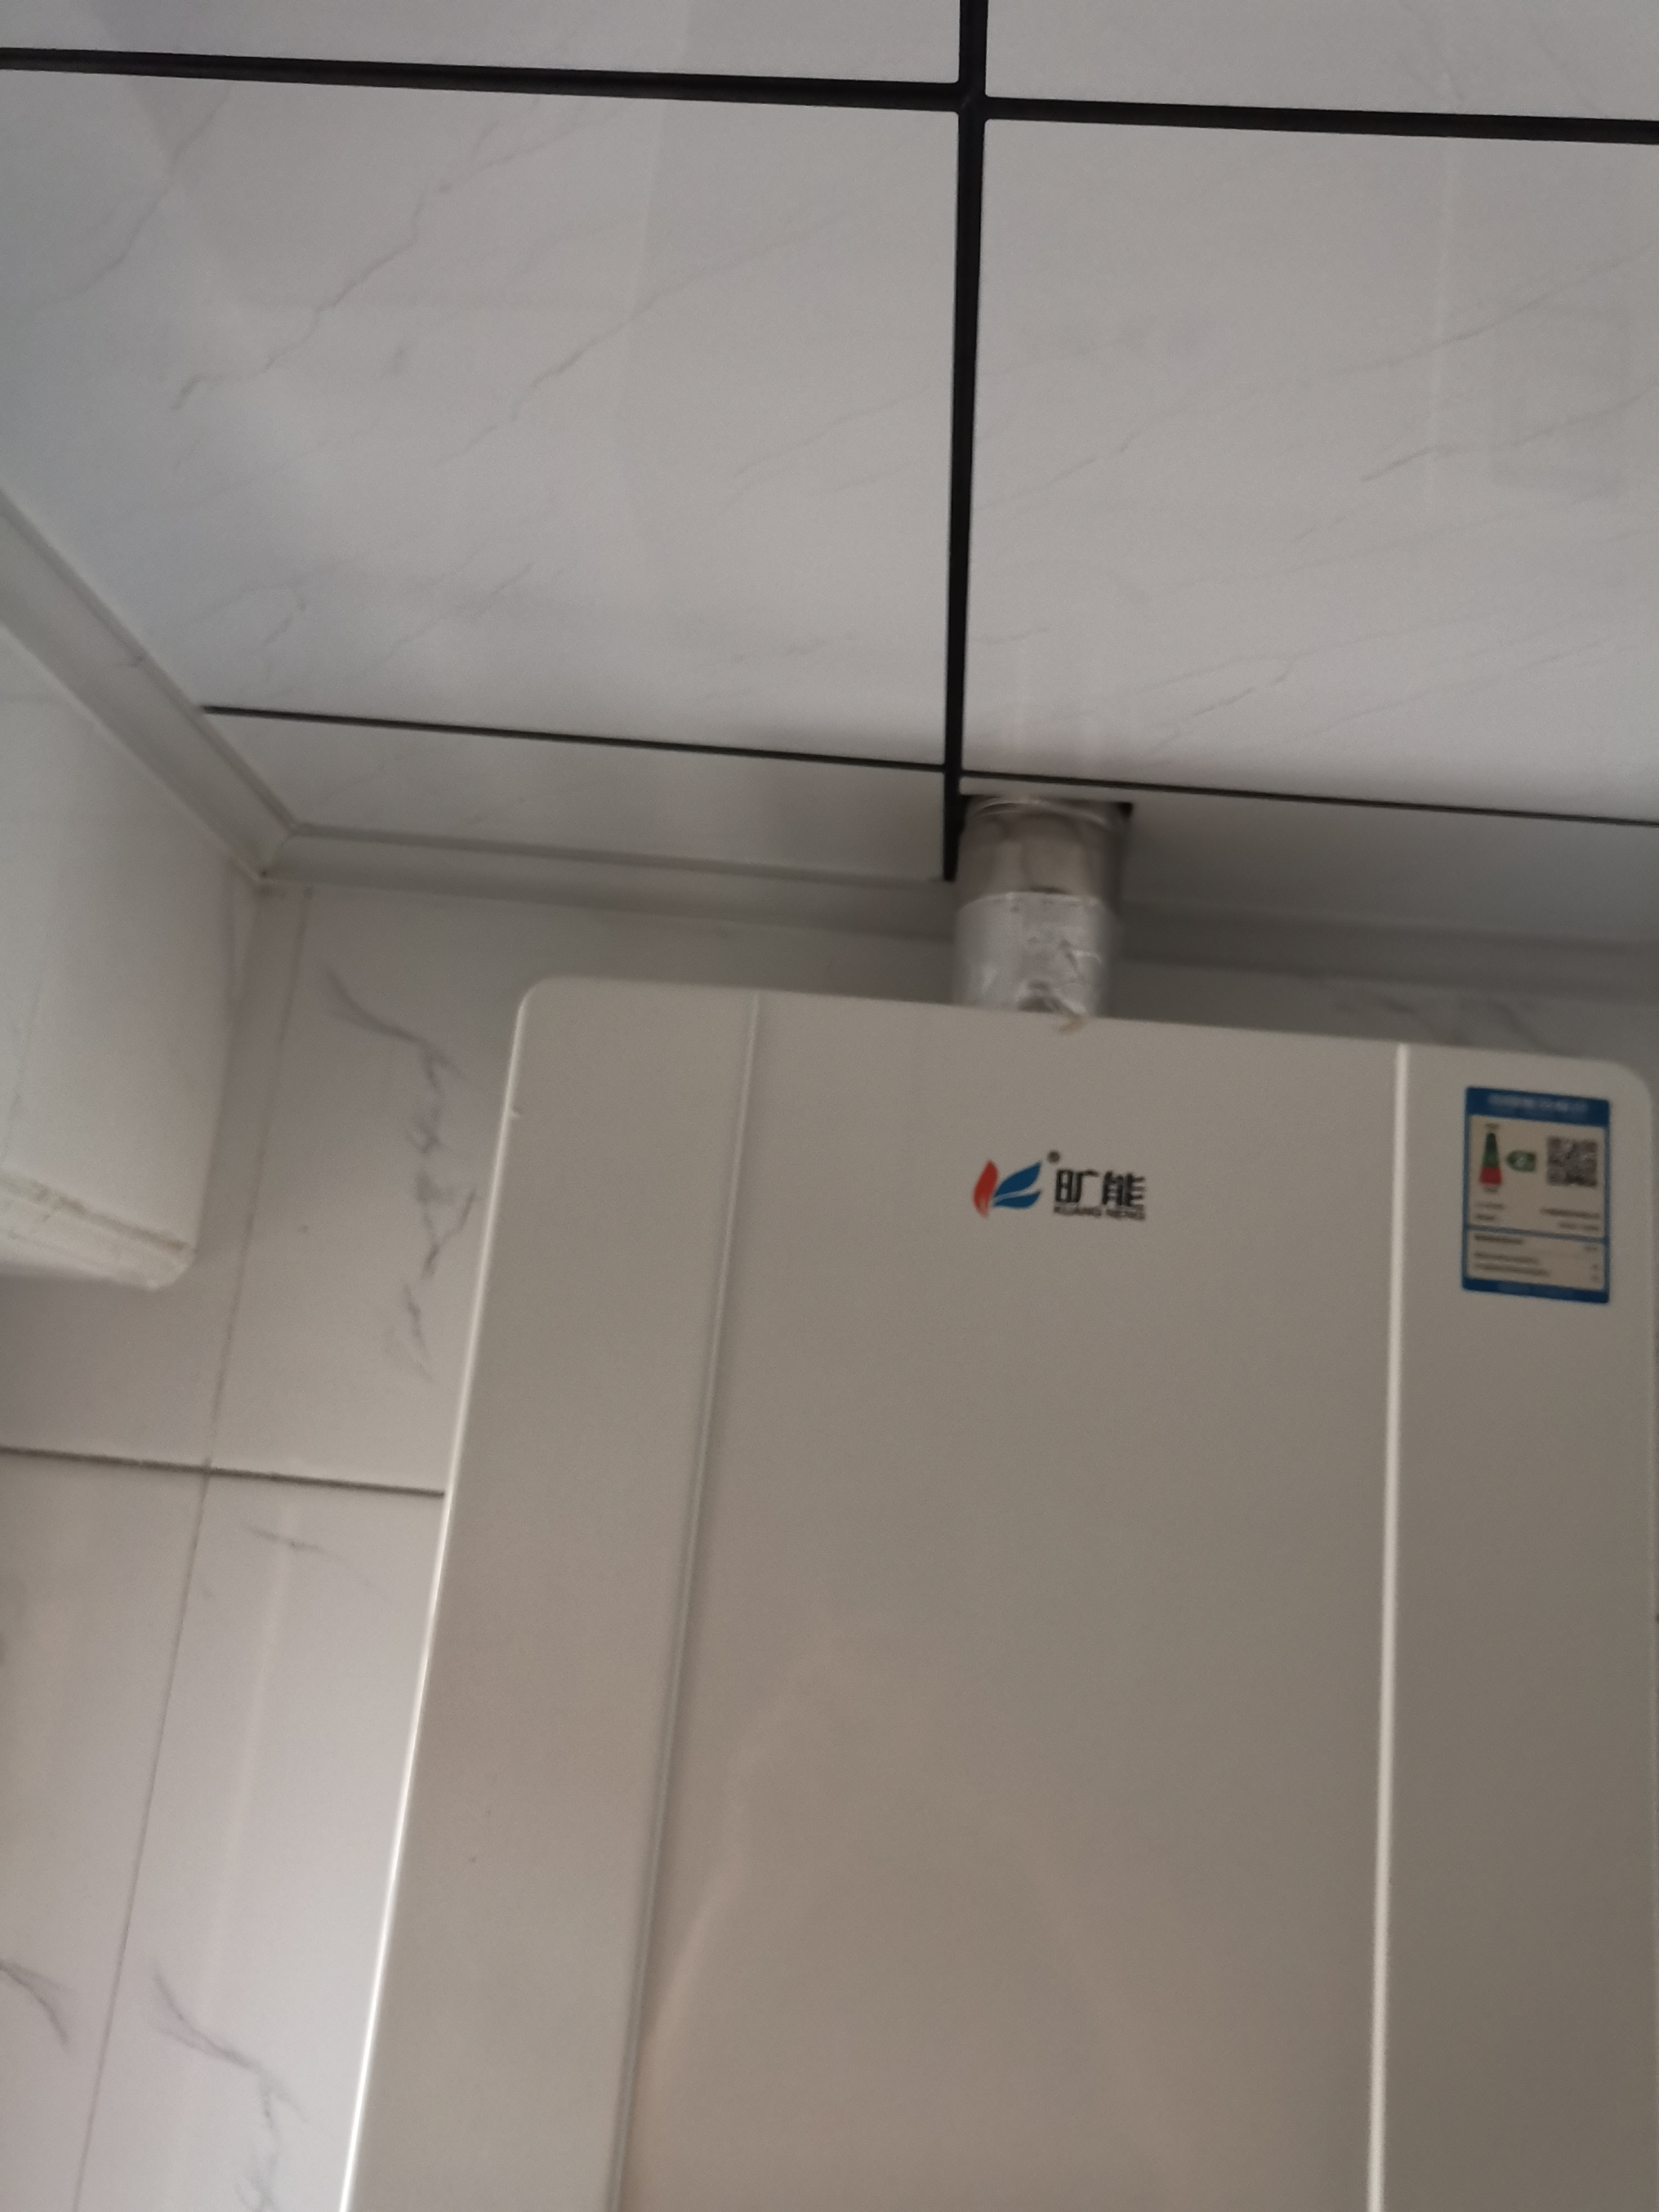loudou: (971, 1127, 1166, 1247)
